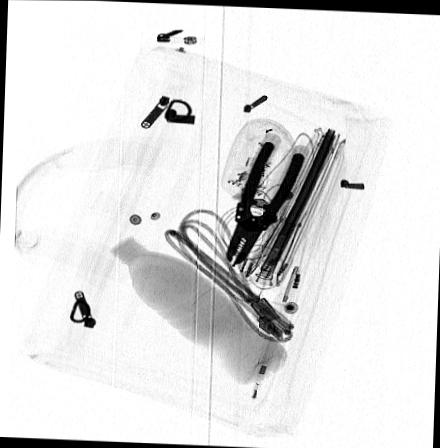Pliers: (224, 141, 305, 264)
